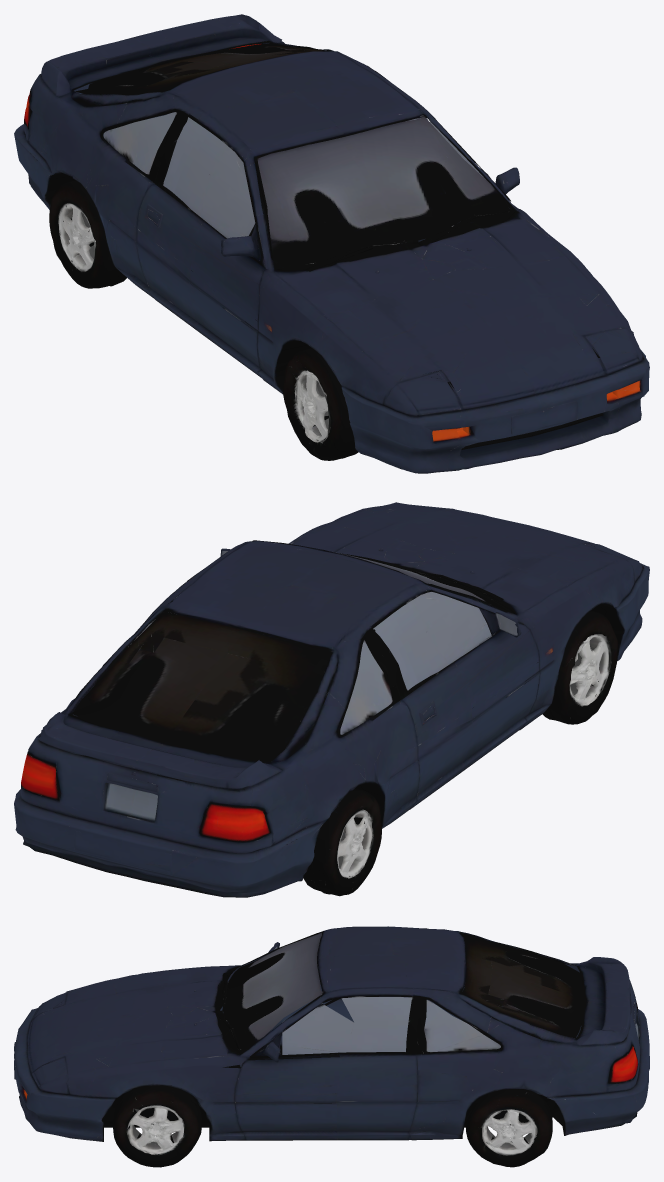
The model's file is muscle-coupe-v1.glb.
The picture shows the model from 3 angles, top to bottom: view 1: azimuth 30°, elevation 25°; view 2: azimuth 150°, elevation 25°; view 3: azimuth 270°, elevation 25°; orthographic projection. The views are drawn at different scales.
Parts seen in each view (by area): view 1: body, wheel_fl_mesh, wheel_rl_mesh; view 2: body, wheel_rl_mesh, wheel_fl_mesh; view 3: body, wheel_fr_mesh, wheel_rr_mesh.
Part boxes in pixels (bbox=[...]): body: bbox=[14, 14, 649, 473]; wheel_fl_mesh: bbox=[283, 347, 358, 460]; wheel_rl_mesh: bbox=[49, 180, 126, 288]; body: bbox=[14, 502, 649, 897]; wheel_rl_mesh: bbox=[303, 789, 381, 896]; wheel_fl_mesh: bbox=[542, 610, 618, 724]; body: bbox=[14, 926, 649, 1141]; wheel_fr_mesh: bbox=[113, 1085, 202, 1167]; wheel_rr_mesh: bbox=[466, 1089, 552, 1167].
Size of the model in its own units: 0.3867 by 0.269 by 0.9512.
1 material, 1 textured.
